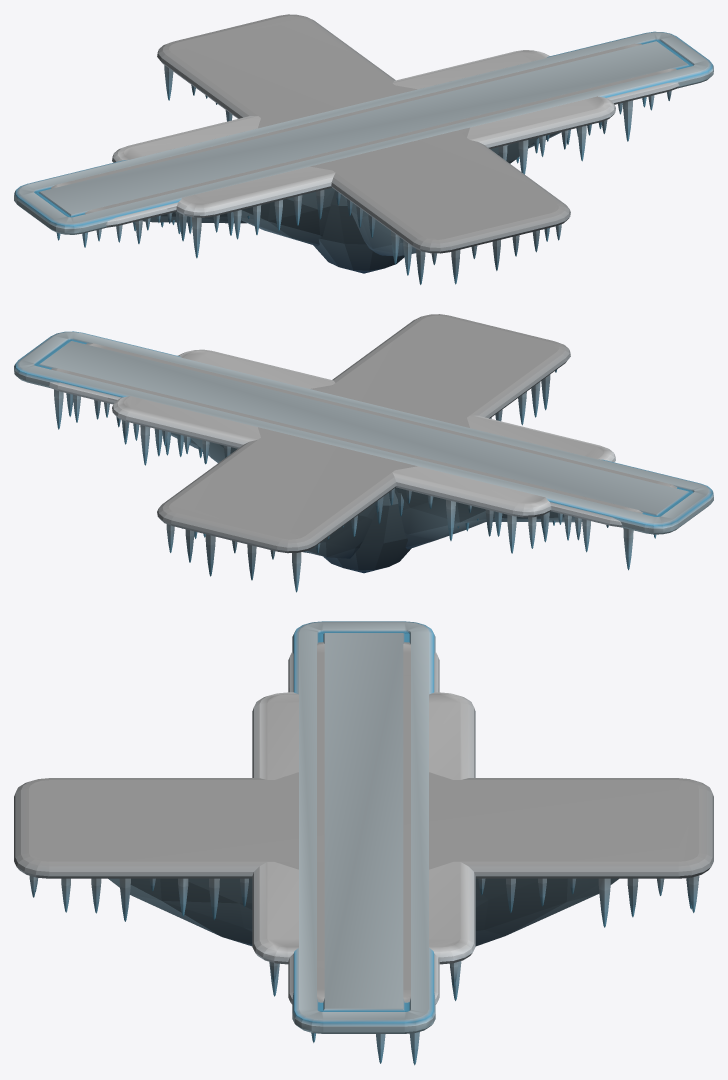
The model's file is glacier-5-cQlSSEZn.glb.
The picture shows the model from 3 angles, top to bottom: view 1: azimuth 30°, elevation 25°; view 2: azimuth 150°, elevation 25°; view 3: azimuth 270°, elevation 25°; orthographic projection. The views are drawn at different scales.
Visible parts, largest first — view 1: block_9x2x29#1, block_40x2x6_ice#0, block_26x2x9#0, disc_12x1.5#0, block_36x2x6#1, block_30x2x6_grate#0; view 2: block_9x2x29#1, block_40x2x6_ice#0, block_26x2x9#0, block_36x2x6#1, disc_12x1.5#0, block_30x2x6_grate#0; view 3: block_9x2x29#1, block_40x2x6_ice#0, block_26x2x9#0, block_30x2x6_grate#0, block_36x2x6#1.
Boxes of the visible parts, <box> form: block_9x2x29#1: <box>157,14,570,284</box>; block_40x2x6_ice#0: <box>14,31,713,234</box>; block_26x2x9#0: <box>112,50,615,258</box>; disc_12x1.5#0: <box>258,85,469,273</box>; block_36x2x6#1: <box>51,43,679,247</box>; block_30x2x6_grate#0: <box>106,55,622,235</box>; block_9x2x29#1: <box>157,314,570,592</box>; block_40x2x6_ice#0: <box>14,331,713,534</box>; block_26x2x9#0: <box>112,349,615,553</box>; block_36x2x6#1: <box>48,343,677,570</box>; disc_12x1.5#0: <box>258,385,469,573</box>; block_30x2x6_grate#0: <box>104,355,621,540</box>; block_9x2x29#1: <box>14,778,713,946</box>; block_40x2x6_ice#0: <box>292,621,435,1033</box>; block_26x2x9#0: <box>252,692,475,1000</box>; block_30x2x6_grate#0: <box>289,674,438,967</box>; block_36x2x6#1: <box>288,642,439,1065</box>.
Bounding box in the file's own units: 40 × 8.42 × 29.36.
